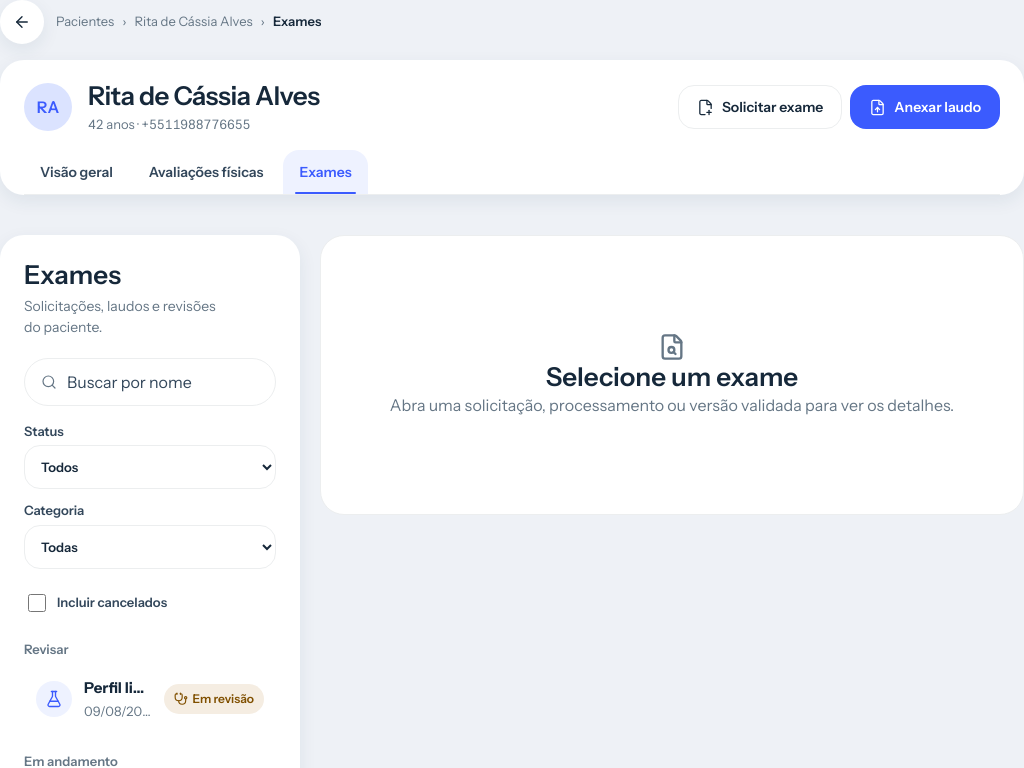
Test: cabeçalho expõe uma ação por capacidade e reabre composer após fechar
The width and height of the screenshot is (1024, 768).
Expected: the text "Perfil lipídico" is shown, [84,677,152,700]
Click the link "Anexar laudo".
click(925, 107)  # box [850,85,1000,129]
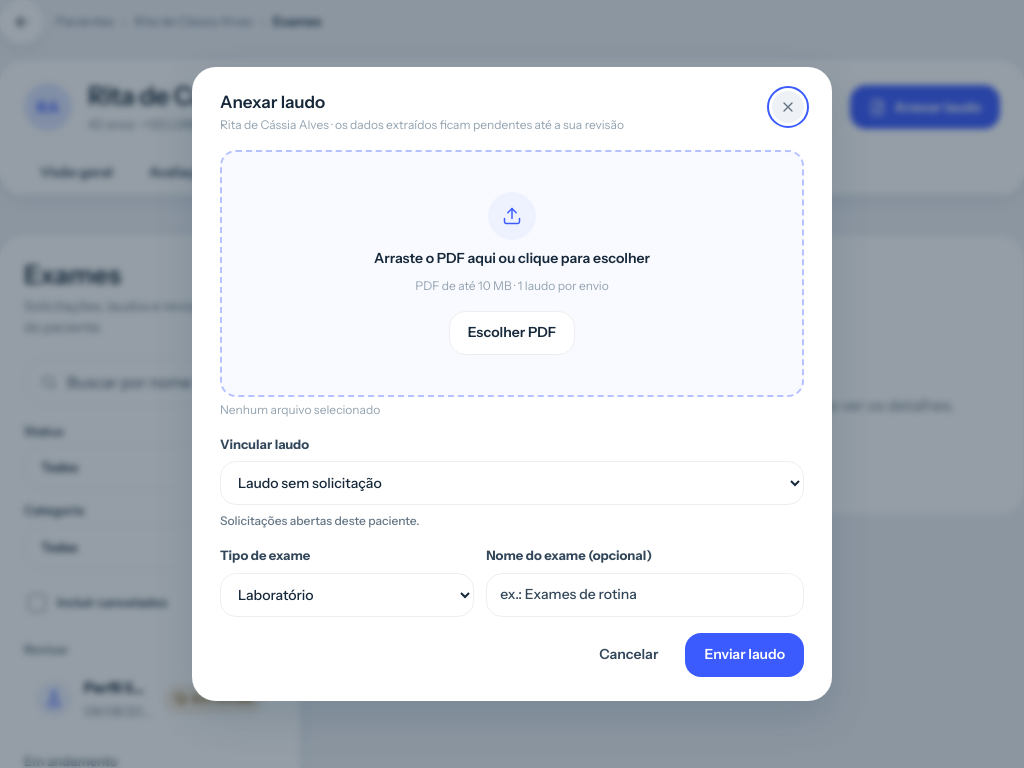
Expected: the dialog "Anexar laudo" is shown, [192,67,832,701]
Click the button named "Fechar".
click(788, 107)  # box [772,91,804,123]
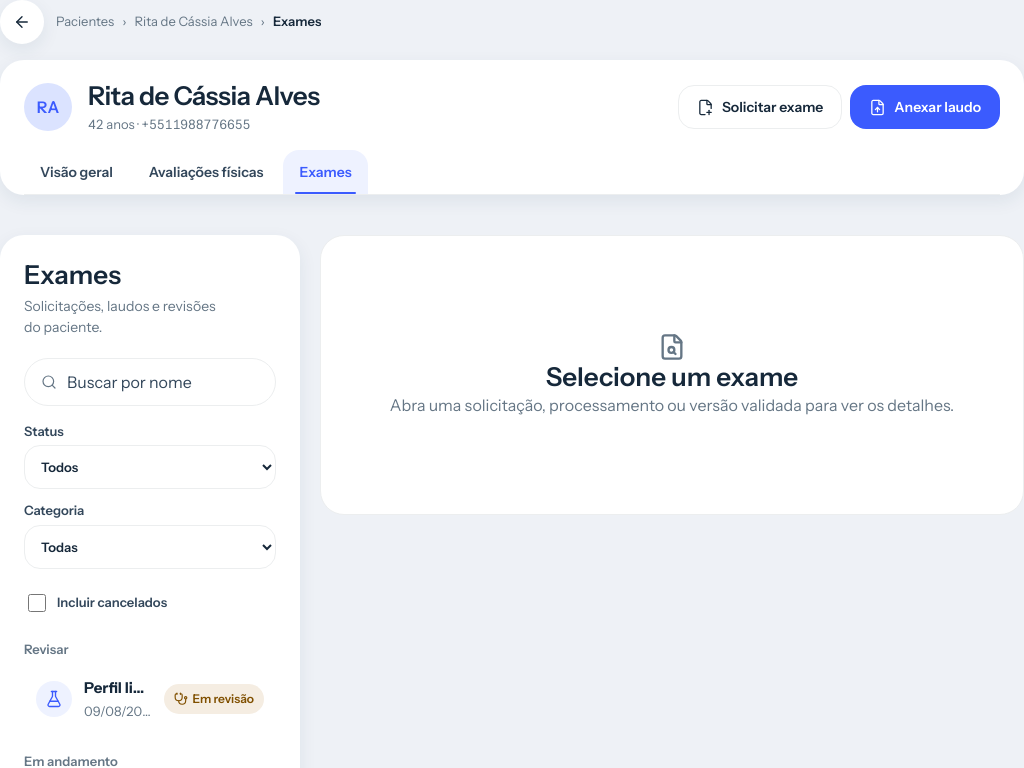
Click the link "Solicitar exame".
click(760, 107)  # box [678,85,842,129]
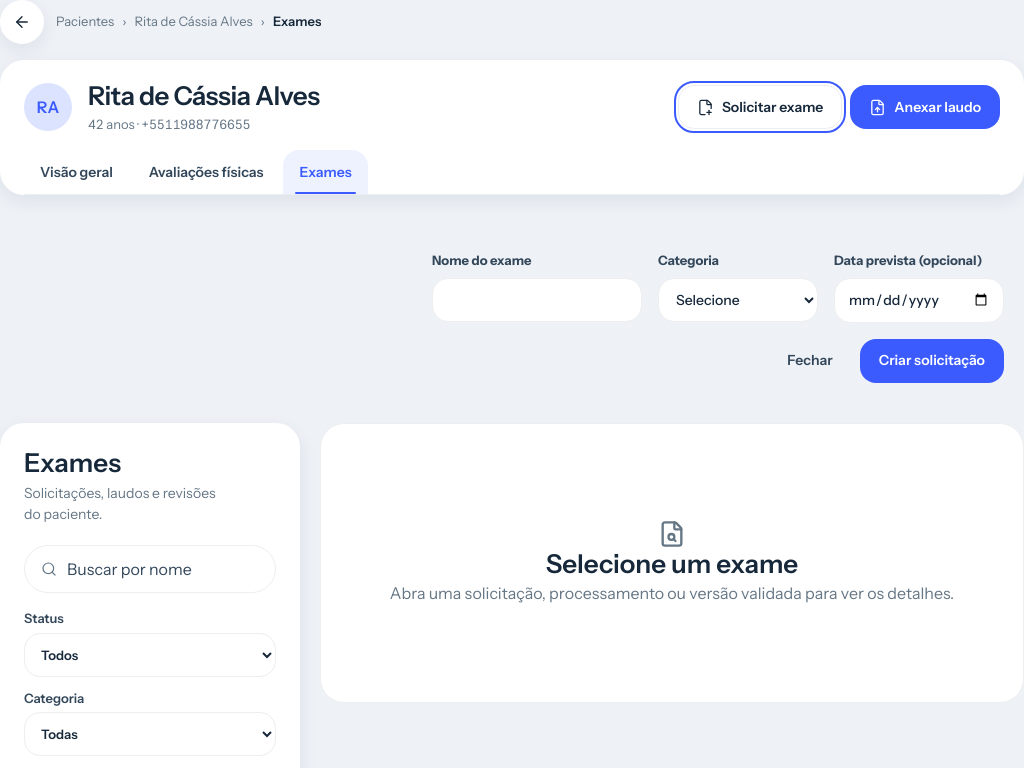
Expected: the element named "Solicitar exame" is shown, [412,231,1023,402]
